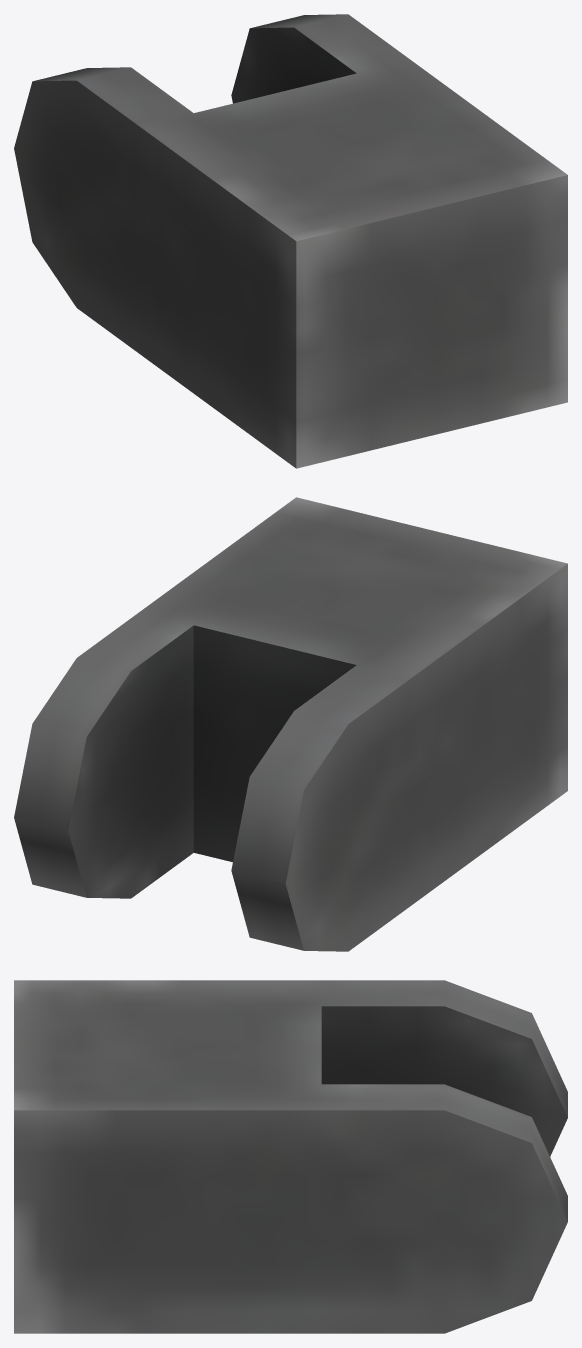
The model's file is eridani_low_gain_antenna_srf_2_base.obj.
3 views of the same model, one above another, from view 1: azimuth 30°, elevation 25°; view 2: azimuth 150°, elevation 25°; view 3: azimuth 270°, elevation 25° (orthographic).
Visible parts, largest first — view 1: mesh1; view 2: mesh1; view 3: mesh1.
Part boxes in pixels (x1,y1,x2,y2): mesh1: (14,14,567,468); mesh1: (14,497,567,951); mesh1: (14,980,567,1333).
Bounding box in the file's own units: 0.0625 × 0.05 × 0.1125.
Materials: 1 (1 with a texture image).
